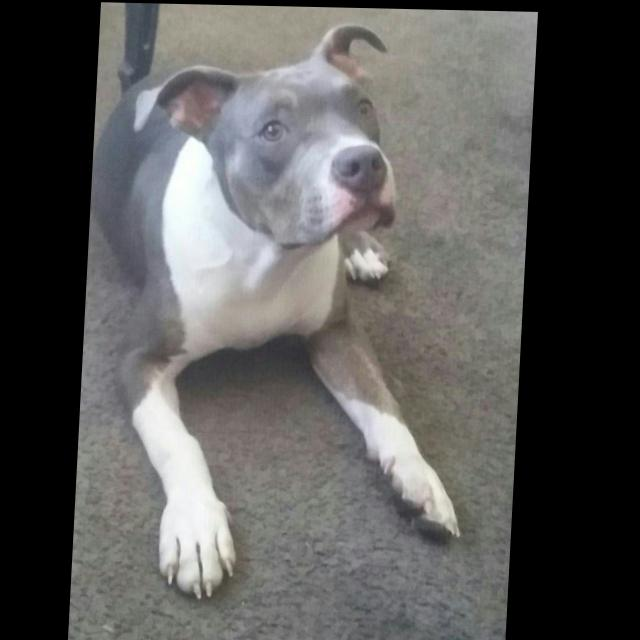am_pit_bull_terrier: (79, 18, 490, 605)
